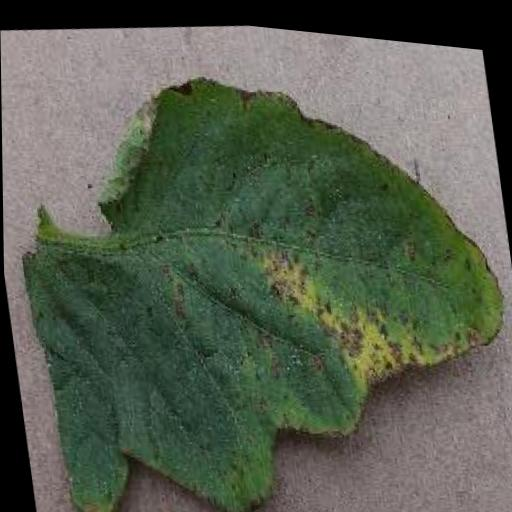Bacterial Spot: (0, 16, 512, 512)
